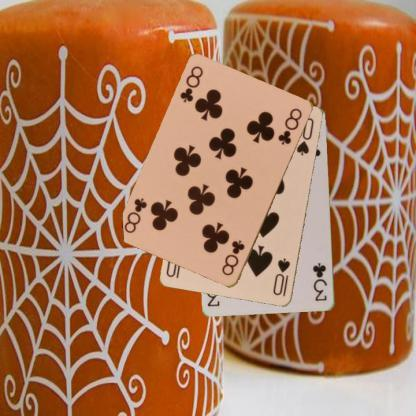10s: (270, 256, 292, 298)
3c: (310, 261, 328, 302)
8c: (219, 237, 246, 278), (178, 64, 204, 104)
